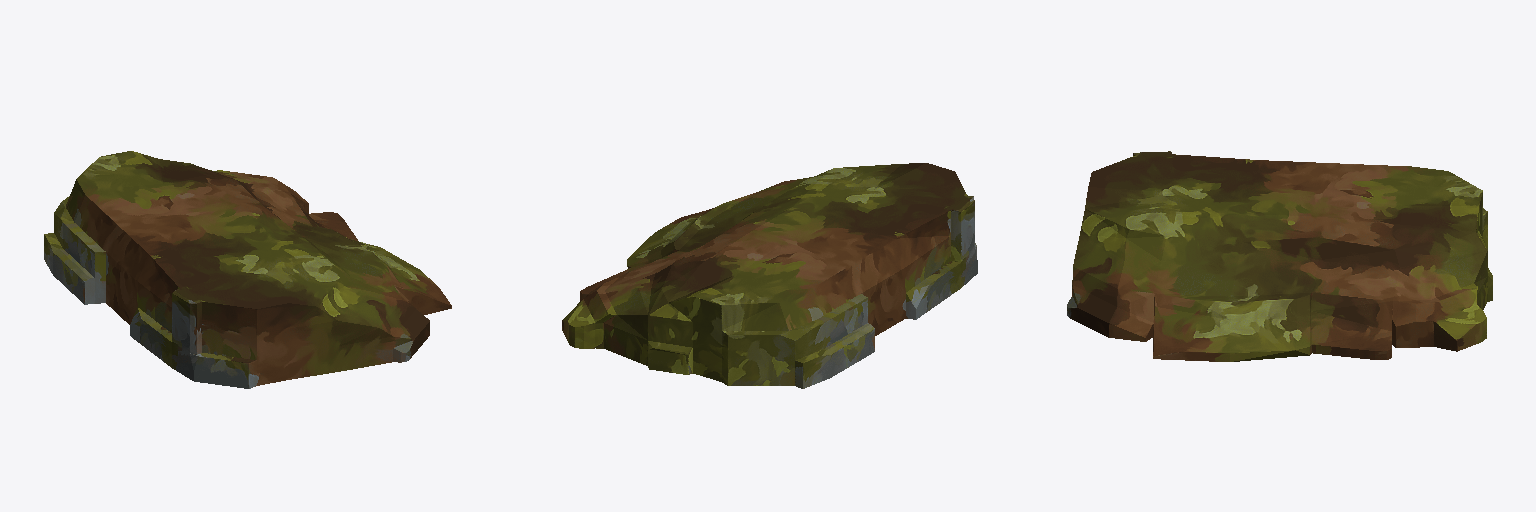
The picture shows the model from 3 angles: view 1: azimuth 30°, elevation 25°; view 2: azimuth 150°, elevation 25°; view 3: azimuth 270°, elevation 25°; orthographic projection.
Parts seen in each view (by area): view 1: Cylinder.002; view 2: Cylinder.002; view 3: Cylinder.002.
Part boxes in pixels (x1,y1,x2,y2): Cylinder.002: (44, 151, 451, 388); Cylinder.002: (562, 163, 977, 388); Cylinder.002: (1067, 151, 1492, 361).
Bounding box in the file's own units: 24.88 × 6.56 × 33.02.
1 materials, 1 textured.